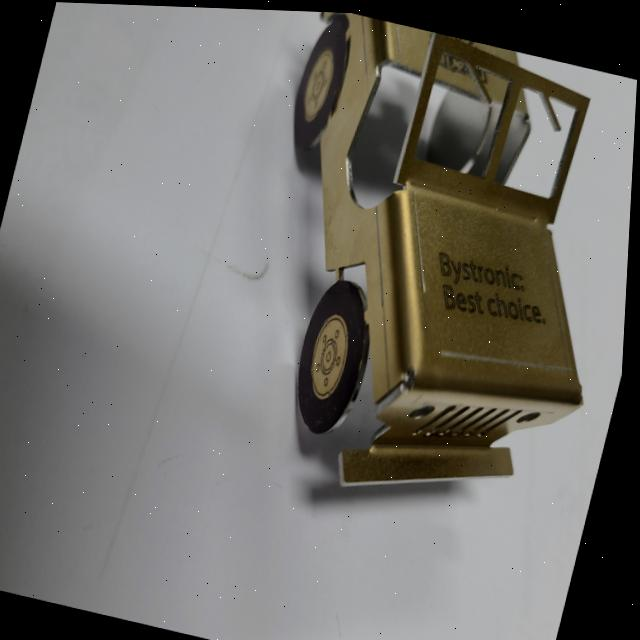tire: (288, 271, 388, 438), (285, 12, 357, 155)
